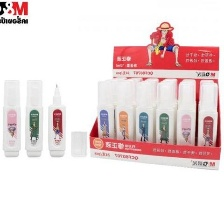book: (88, 18, 223, 173)
correction_fluid: (195, 81, 220, 166), (152, 80, 177, 160), (174, 79, 197, 163), (113, 78, 136, 156), (0, 78, 22, 159), (134, 80, 156, 158), (23, 77, 44, 158), (95, 79, 117, 154), (47, 82, 68, 159)
